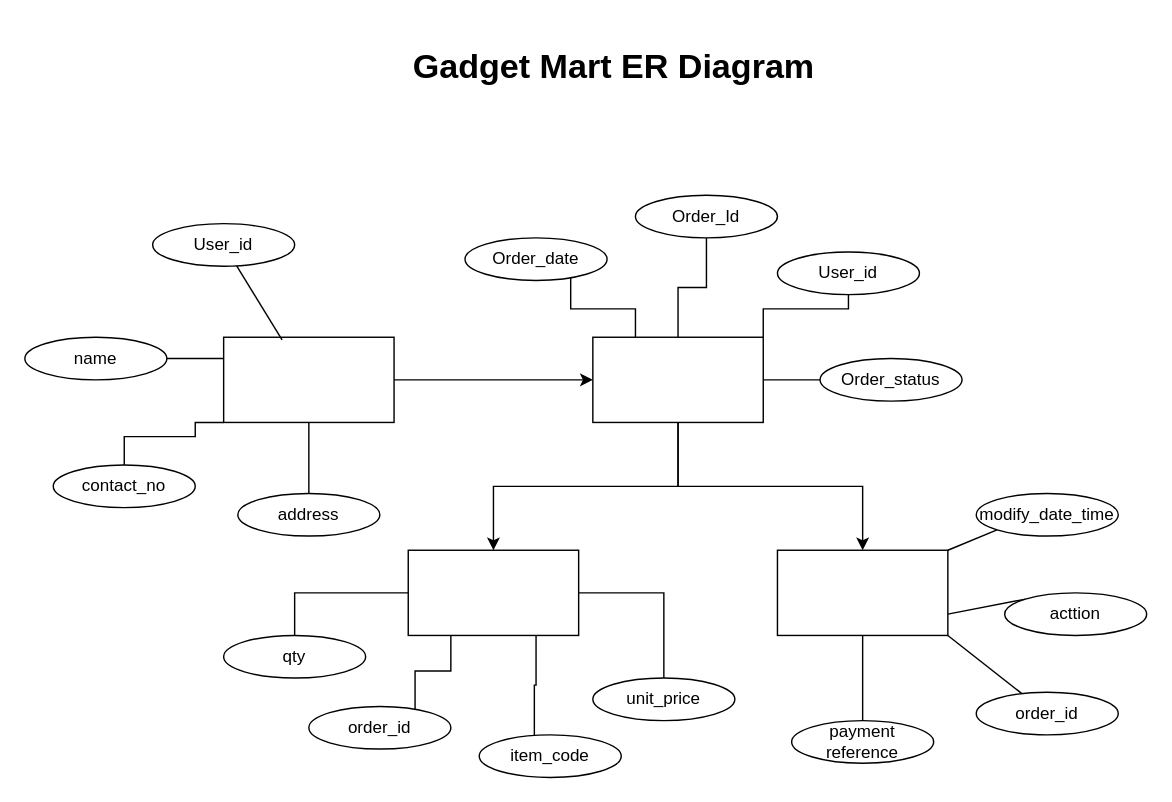
Some shapes in this 1172 by 802 pixel diagram are drawn without their labels. Here are the shapes that lost their labels. From the top down, the centre of each, then its label:
the point at 308,379: Users
the point at 677,379: Order
the point at 493,592: Order Details
the point at 862,592: Order History
